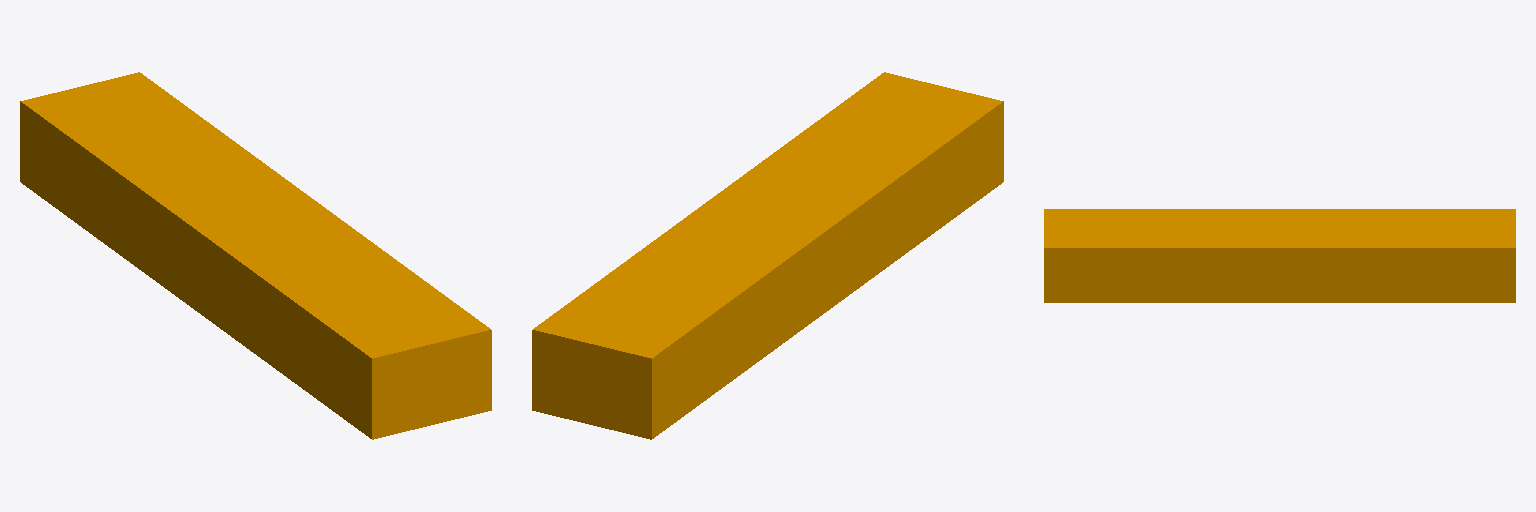
URDF robot description (sink_counter_front):
<?xml version="1.0"?>
<robot name="sink_counter_front">
    <material name="color">
        <color rgba="0.4 0.4 0.4 1"/>
    </material>
    <link name="base">
    <visual name="box_visual">
    			<origin xyz="0 0 0" rpy="0 0 0"/>

        <geometry>
            <box size="0.077 0.393 0.05"/>
        </geometry>
    </visual>
    <collision name="box_collision">
        <geometry>
            <box size="0.077 0.393 0.05"/>
        </geometry>
    </collision>
    <inertial>
			<mass value="0.3"/>
			<inertia ixx="0.6" ixy="0.0" ixz="0.0" iyy="0.5" iyz="-0.0" izz="0.08"/>
		</inertial>
    </link>
</robot>

--- Facts derived from the render (not from the file) ---
The picture shows the robot from 3 angles, left to right: view 1: azimuth 30°, elevation 25°; view 2: azimuth 150°, elevation 25°; view 3: azimuth 270°, elevation 25°; orthographic projection.
Robot: sink_counter_front — 1 links, 0 joints (none); root link base; default pose: every joint at zero.
Links seen in each view (by area): view 1: base; view 2: base; view 3: base.
Link boxes in pixels (x1,y1,x2,y2): base: (20,72,491,439); base: (532,72,1003,439); base: (1044,209,1515,302).
Bounding box of the posed robot: 0.077 × 0.393 × 0.05 m (x, y, z).
Geometry: primitives only (box / cylinder / sphere), no mesh files.